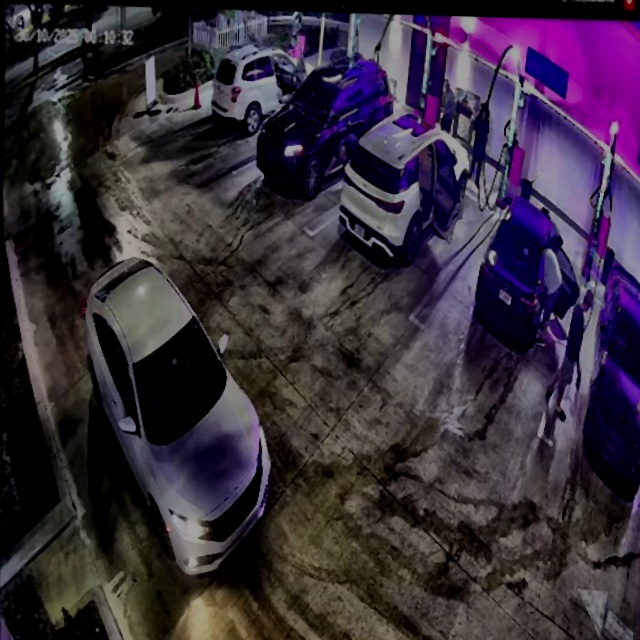Car: (81, 256, 278, 579), (337, 107, 471, 265), (259, 57, 394, 202), (476, 195, 581, 345)
